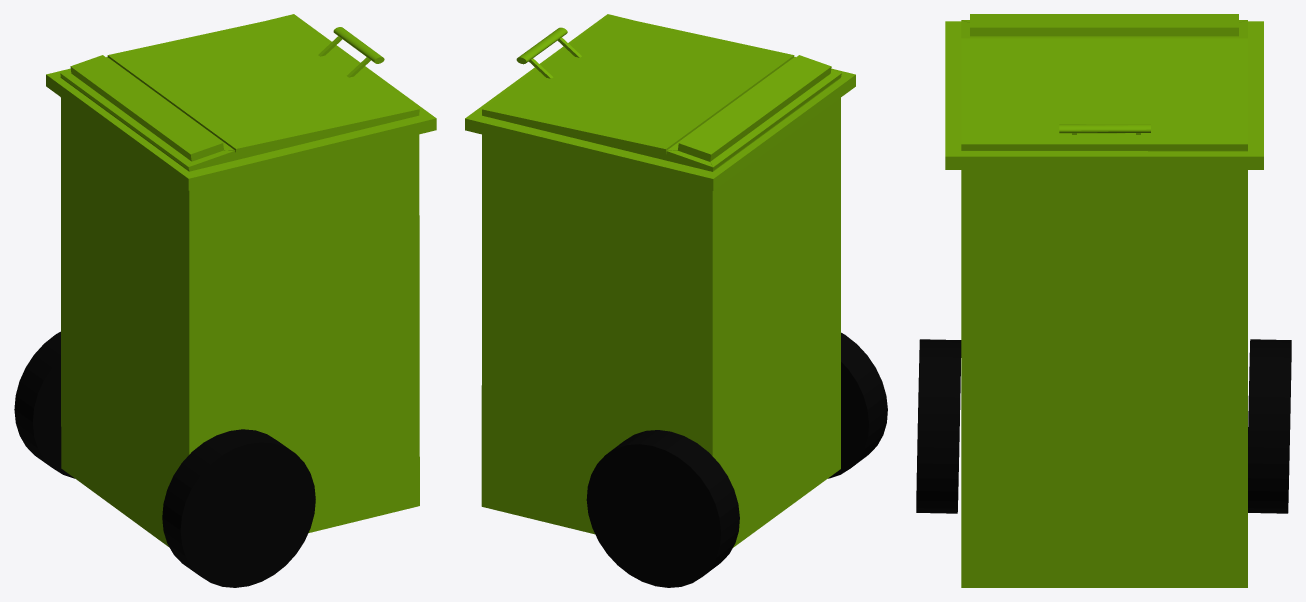
The model's file is garbage.fbx.
3 views of the same model, side by side, from view 1: azimuth 30°, elevation 25°; view 2: azimuth 150°, elevation 25°; view 3: azimuth 270°, elevation 25° (orthographic). The views are drawn at different scales.
Visible parts, largest first — view 1: Cylinder; view 2: Cylinder; view 3: Cylinder.
Boxes of the visible parts, left/top/right/bottom form: Cylinder: left=14, top=14, right=436, bottom=587; Cylinder: left=465, top=14, right=887, bottom=587; Cylinder: left=916, top=14, right=1291, bottom=587.
Bounding box in the file's own units: 77.03 × 120 × 83.69.
